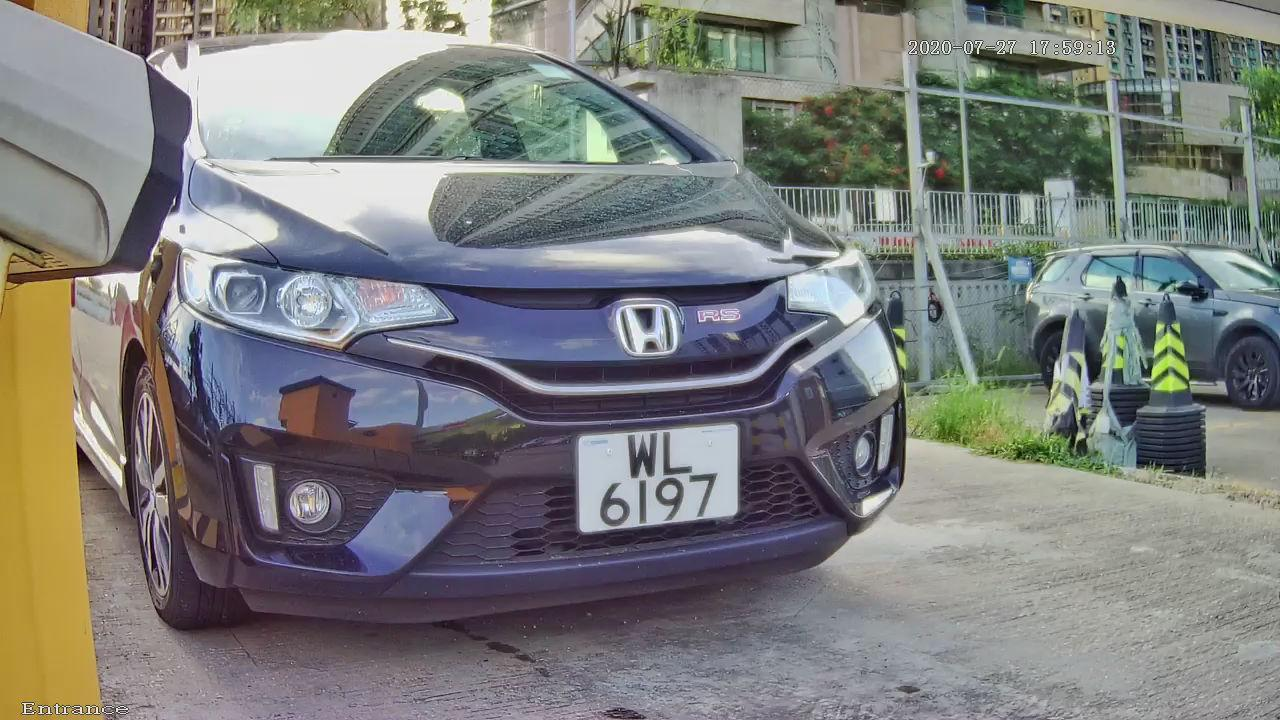privatecar: (58, 26, 989, 656)
